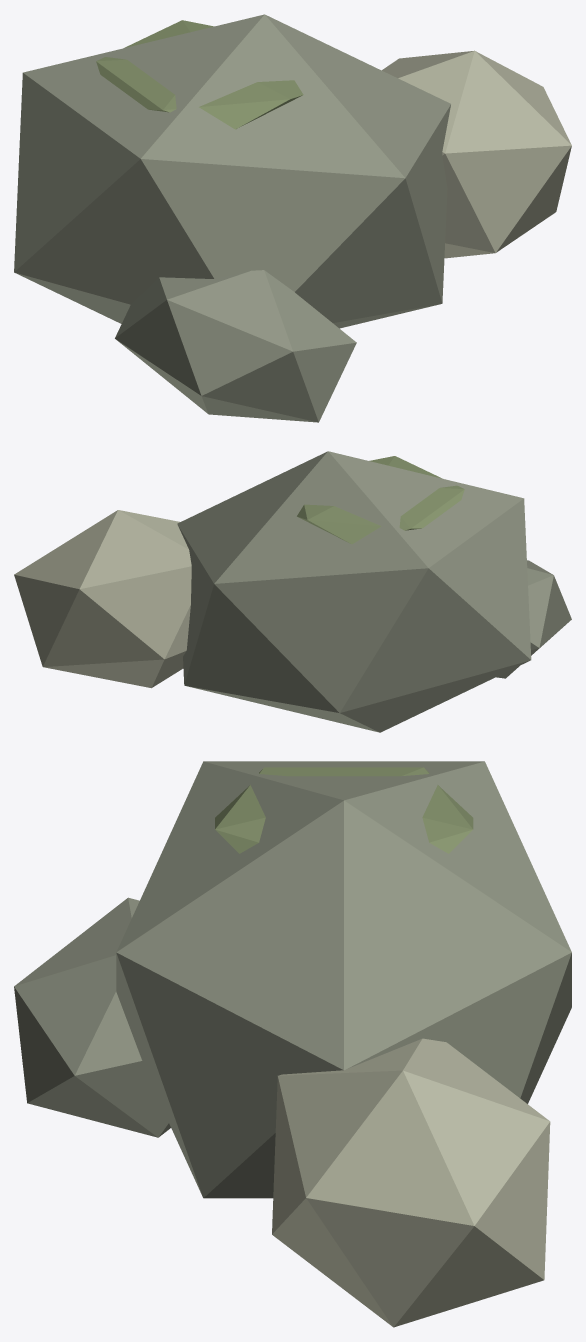
File: rock-cluster.glb
3 views of the same model, one above another, from view 1: azimuth 30°, elevation 25°; view 2: azimuth 150°, elevation 25°; view 3: azimuth 270°, elevation 25° (orthographic). The views are drawn at different scales.
Visible parts, largest first — view 1: rock-cluster-runtime; view 2: rock-cluster-runtime; view 3: rock-cluster-runtime.
Part boxes in pixels (x1,y1,x2,y2): rock-cluster-runtime: (14, 14, 571, 422); rock-cluster-runtime: (14, 451, 571, 732); rock-cluster-runtime: (14, 761, 571, 1327).
Bounding box in the file's own units: 1.8 × 0.9801 × 1.25.
